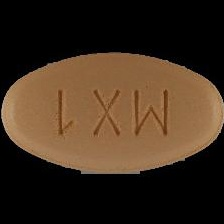0378-1721: (0, 0, 224, 224)
